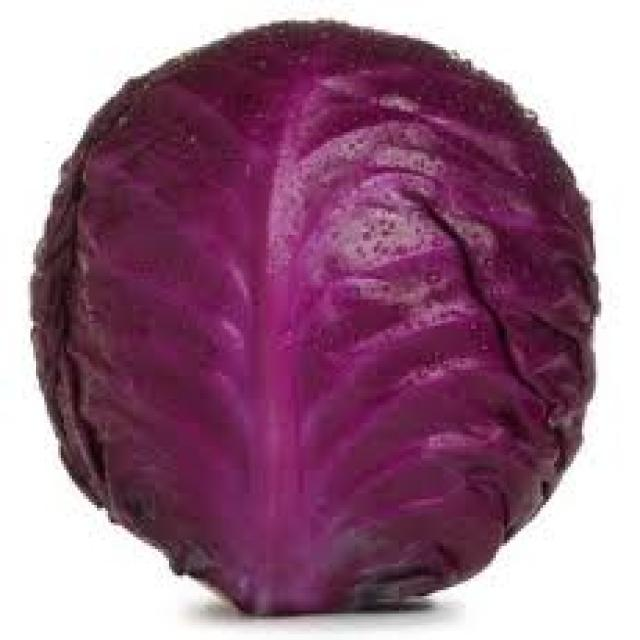cabbage: (33, 15, 604, 622)
